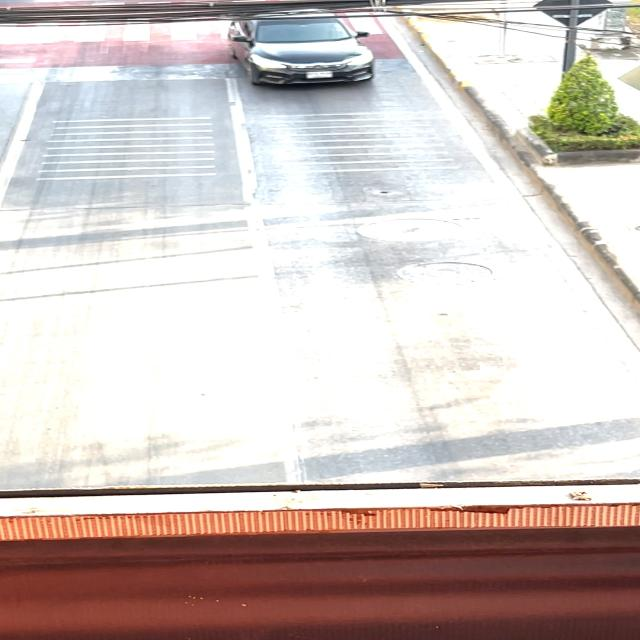car: (222, 10, 395, 99)
